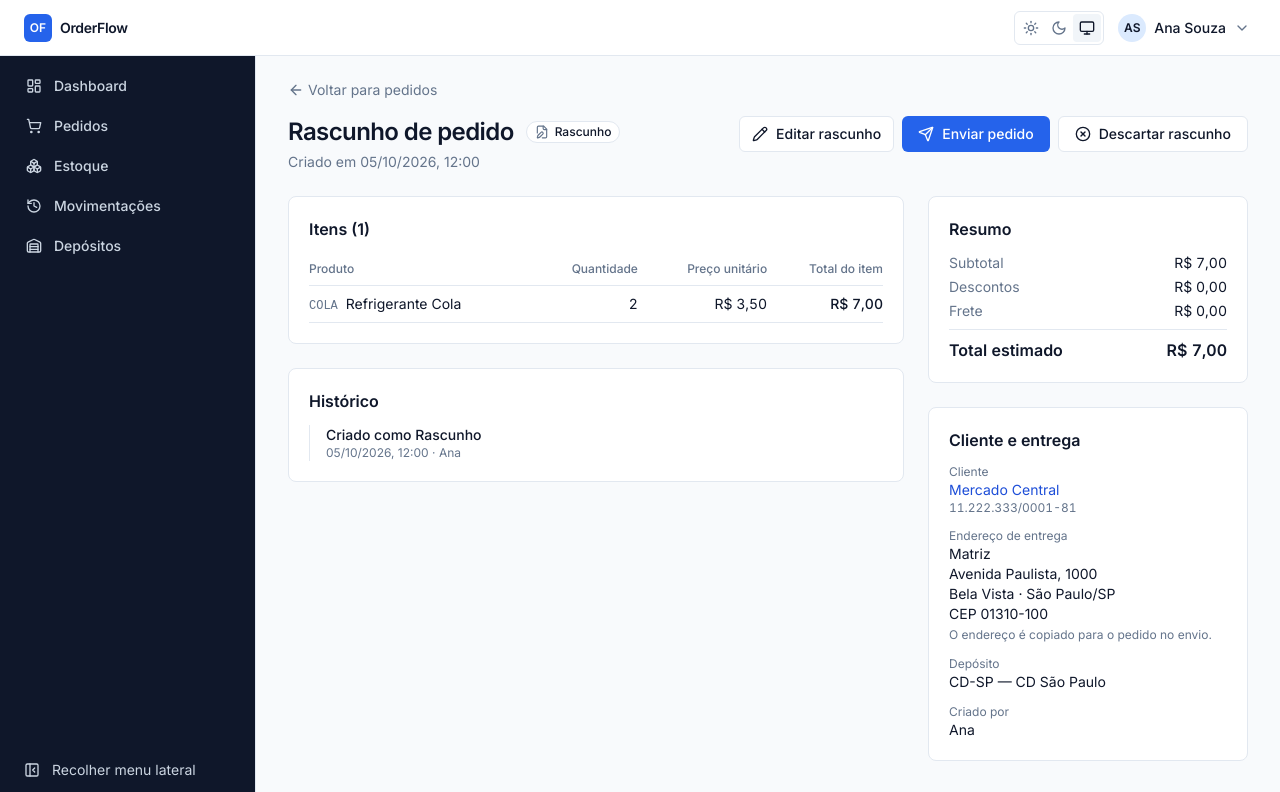
Test case: OrderDetailPage › asks for confirmation of the new total when prices changed since the draft was saved
This screenshot has width=1280, height=792.
Click the button "Enviar pedido" at (976, 134), box [902, 116, 1050, 152]
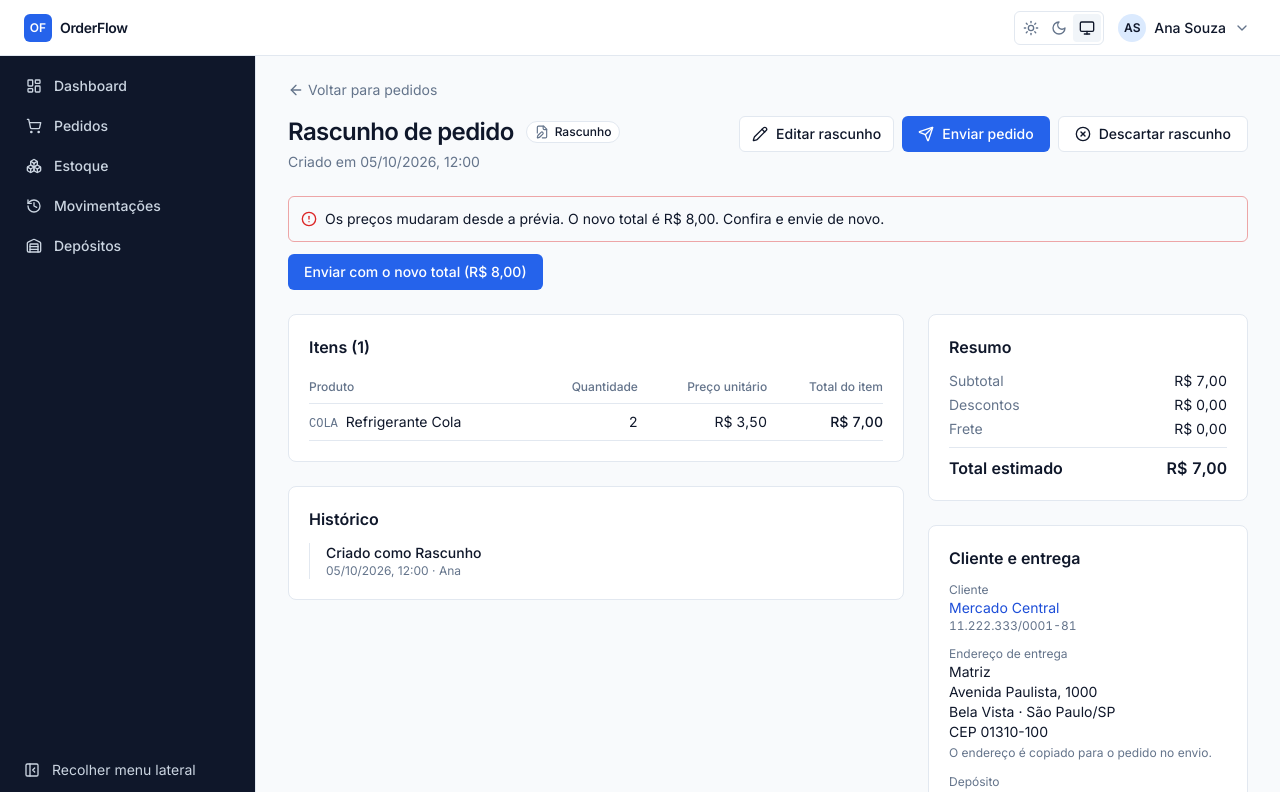
Click the button "Enviar com o novo total (R$ 8,00)" at (415, 272), box [288, 254, 542, 290]
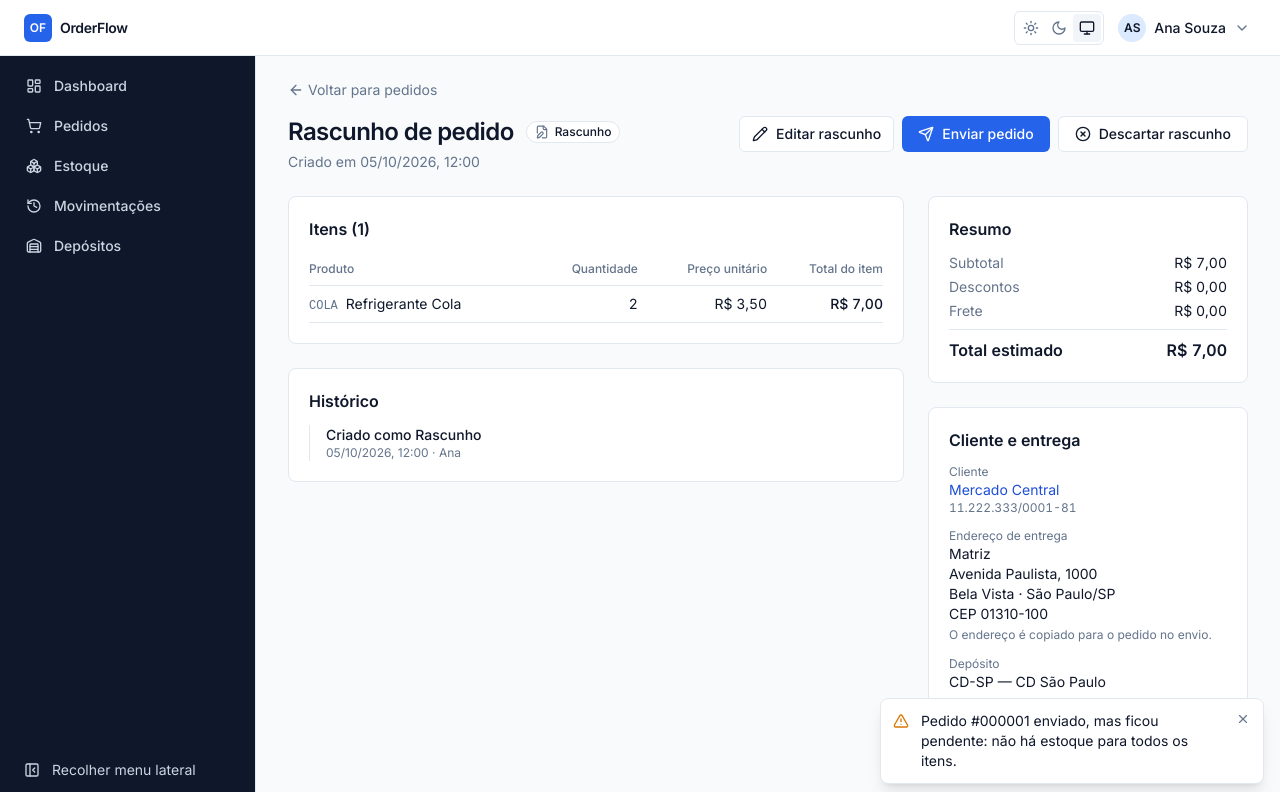
Expected: the text "Pedido #000001 enviado, mas ficou pendente" is shown, [921, 712, 1188, 769]
